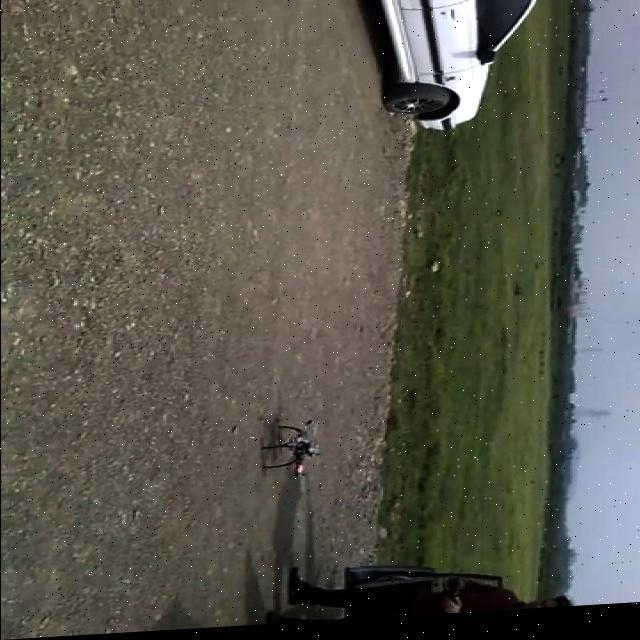drone: (259, 422, 325, 486)
